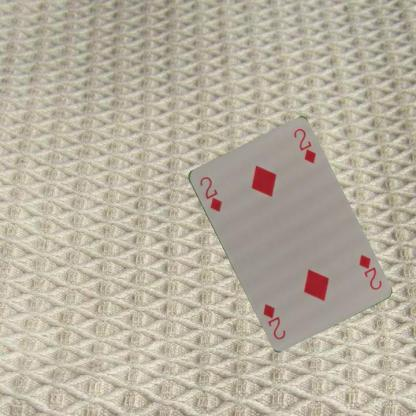2d: (355, 251, 383, 292), (196, 174, 223, 214)
